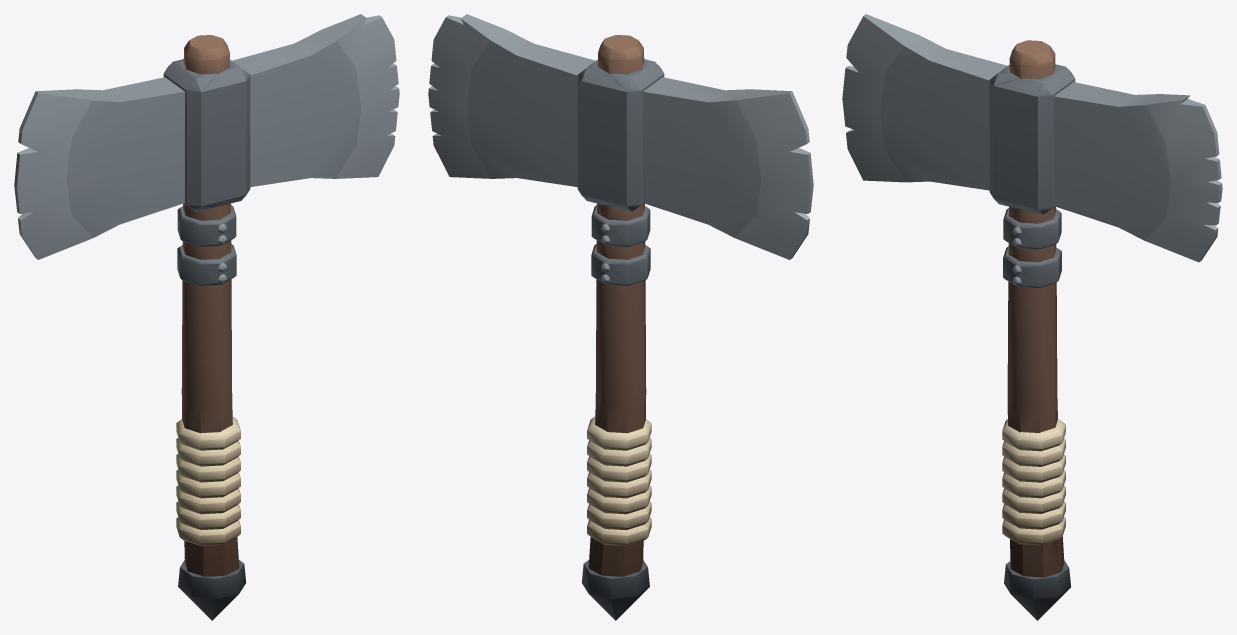
File: battleaxe_iron.glb
3 views of the same model, side by side, from view 1: azimuth 30°, elevation 25°; view 2: azimuth 150°, elevation 25°; view 3: azimuth 330°, elevation 25° (orthographic).
Visible parts, largest first — view 1: Item; view 2: Item; view 3: Item.
Part boxes in pixels (x1=…): Item: x1=14, y1=14, x2=399, y2=620; Item: x1=428, y1=14, x2=813, y2=620; Item: x1=842, y1=14, x2=1222, y2=620.
Bounding box in the file's own units: 1.44 × 2.09 × 0.2246.
Materials: 2 (2 with a texture image).
